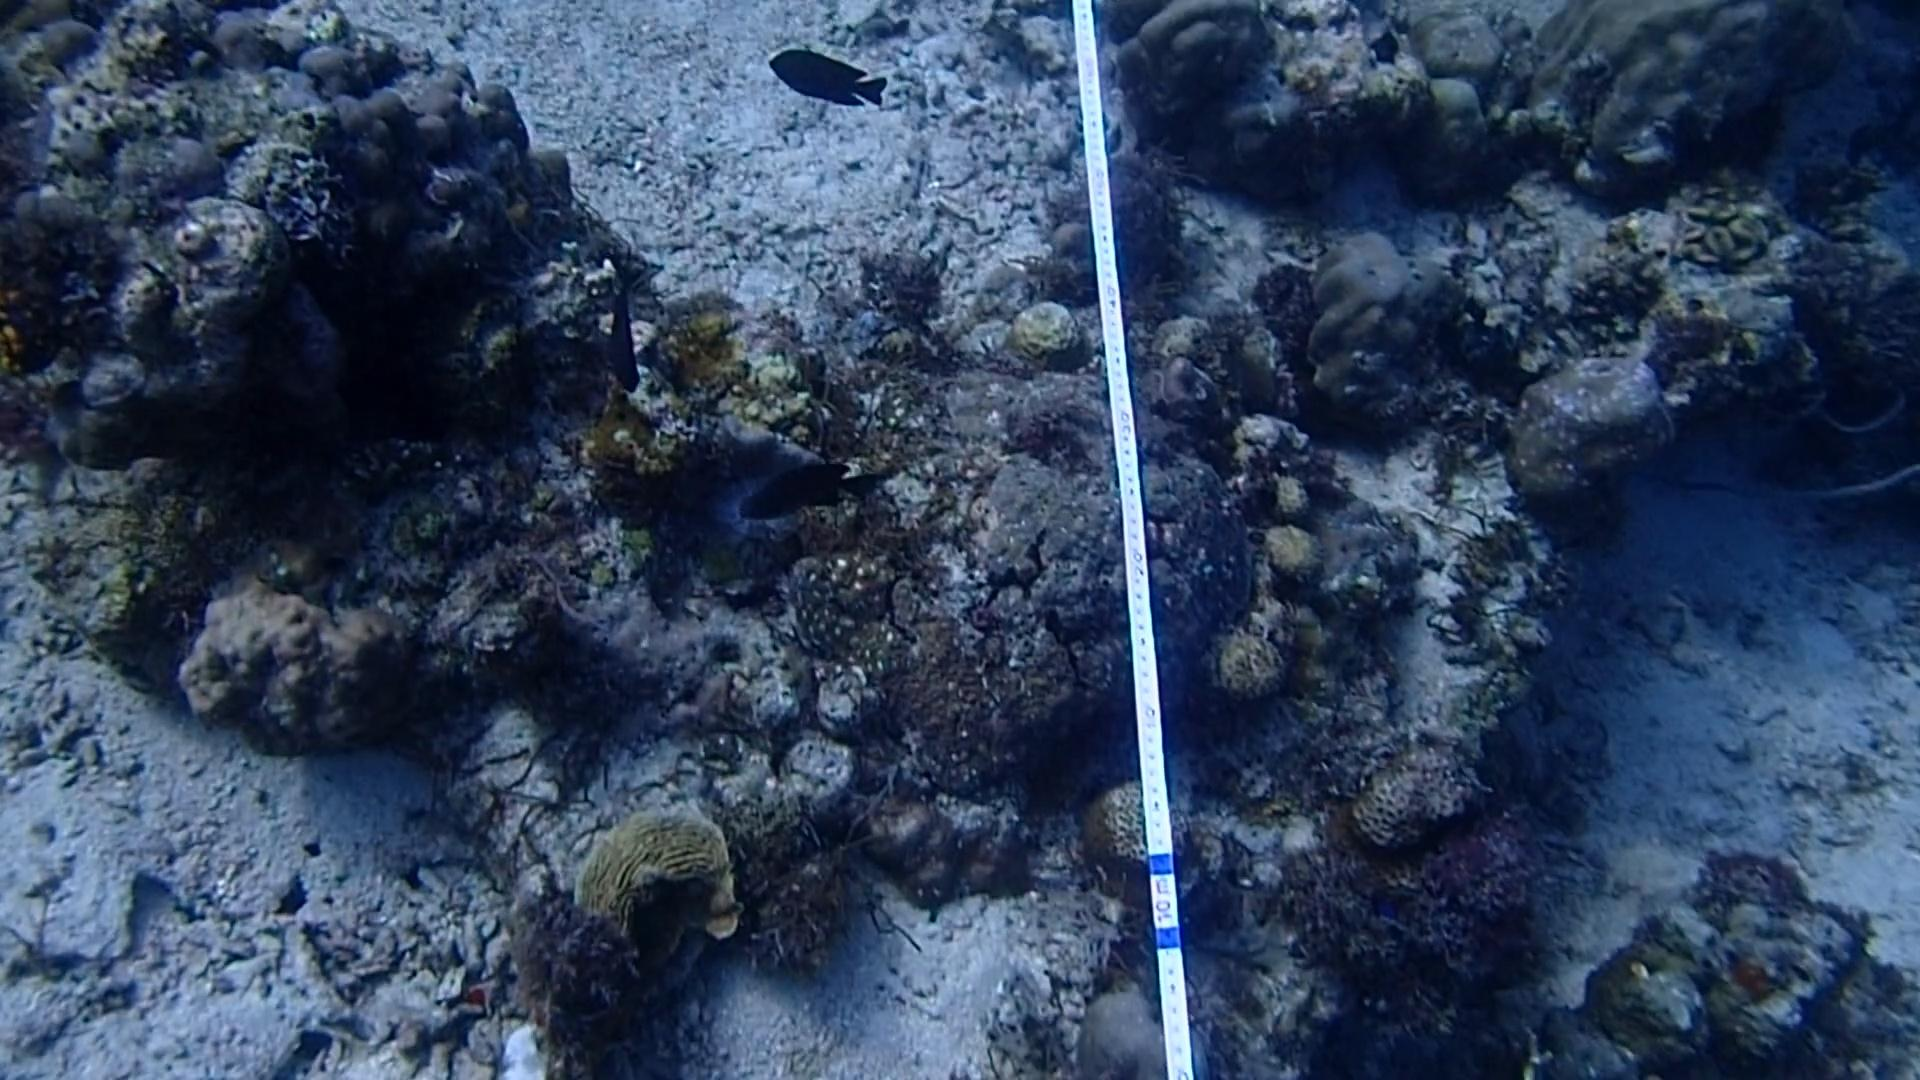Dark Fish: (720, 448, 885, 522), (579, 253, 661, 393), (753, 40, 902, 111)
